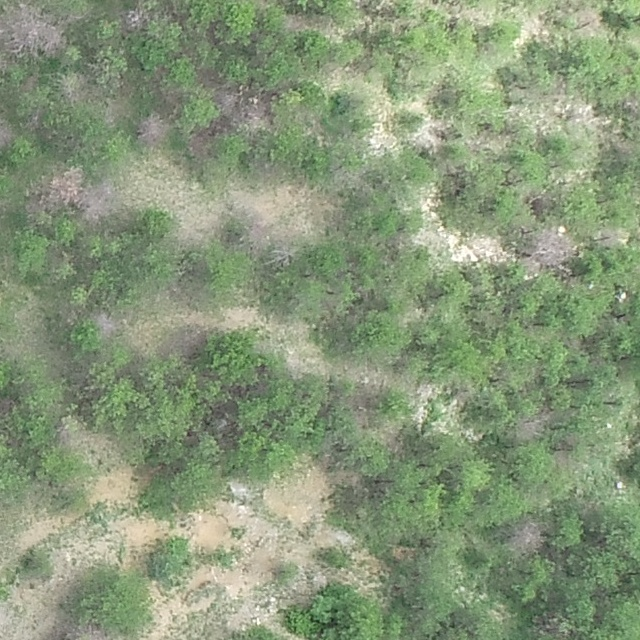unhealthy: (0, 5, 67, 58), (218, 85, 273, 131), (39, 166, 84, 208), (535, 225, 572, 264), (511, 519, 547, 558), (526, 611, 571, 640), (84, 183, 113, 222), (137, 110, 168, 143), (56, 69, 84, 101), (262, 245, 300, 267), (242, 224, 272, 251), (93, 309, 120, 339), (576, 11, 602, 34), (187, 133, 211, 155), (522, 253, 539, 279), (520, 417, 542, 437), (600, 228, 617, 249), (122, 7, 139, 26)
